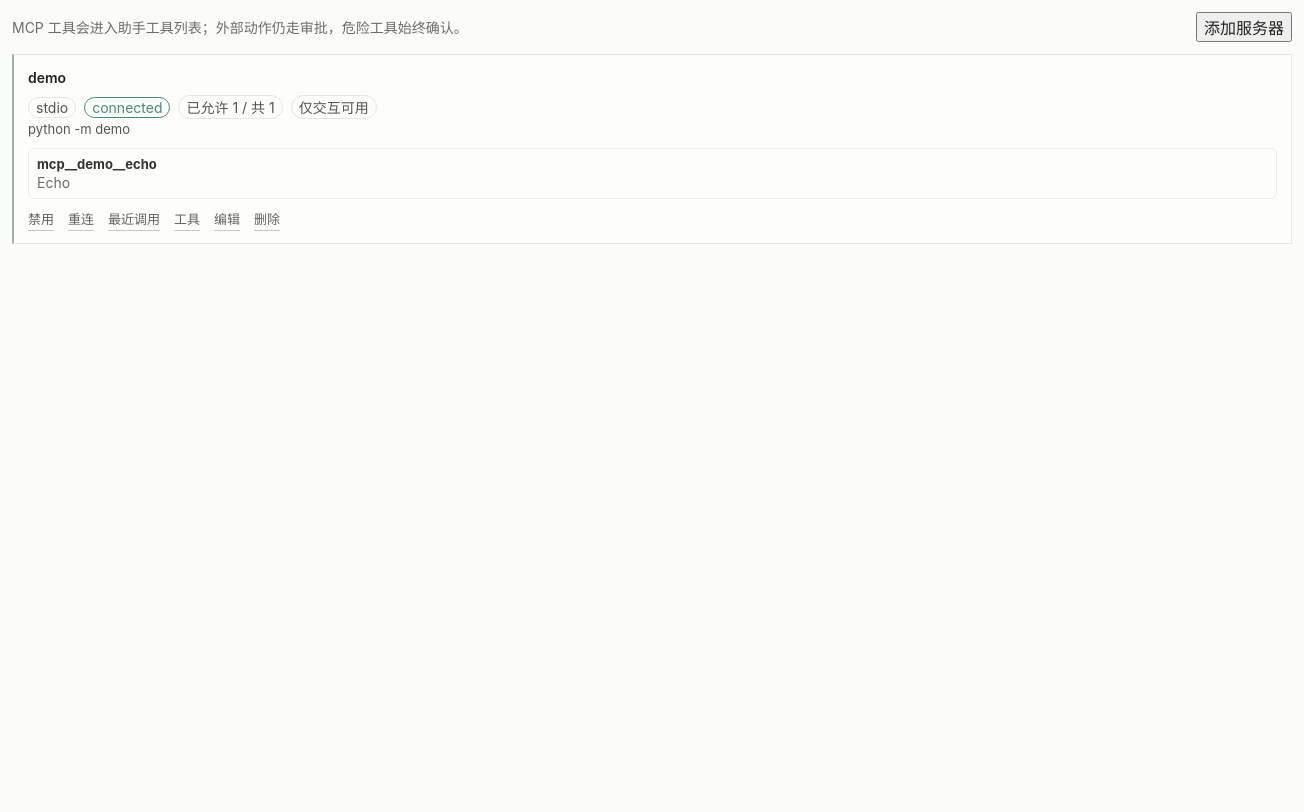
F1 编辑已有服务器：请求体（只发脏字段） › 没有任何改动时保存：零请求，只给一句提示
Click the button "编辑" at (227, 219), box [214,207,240,231]
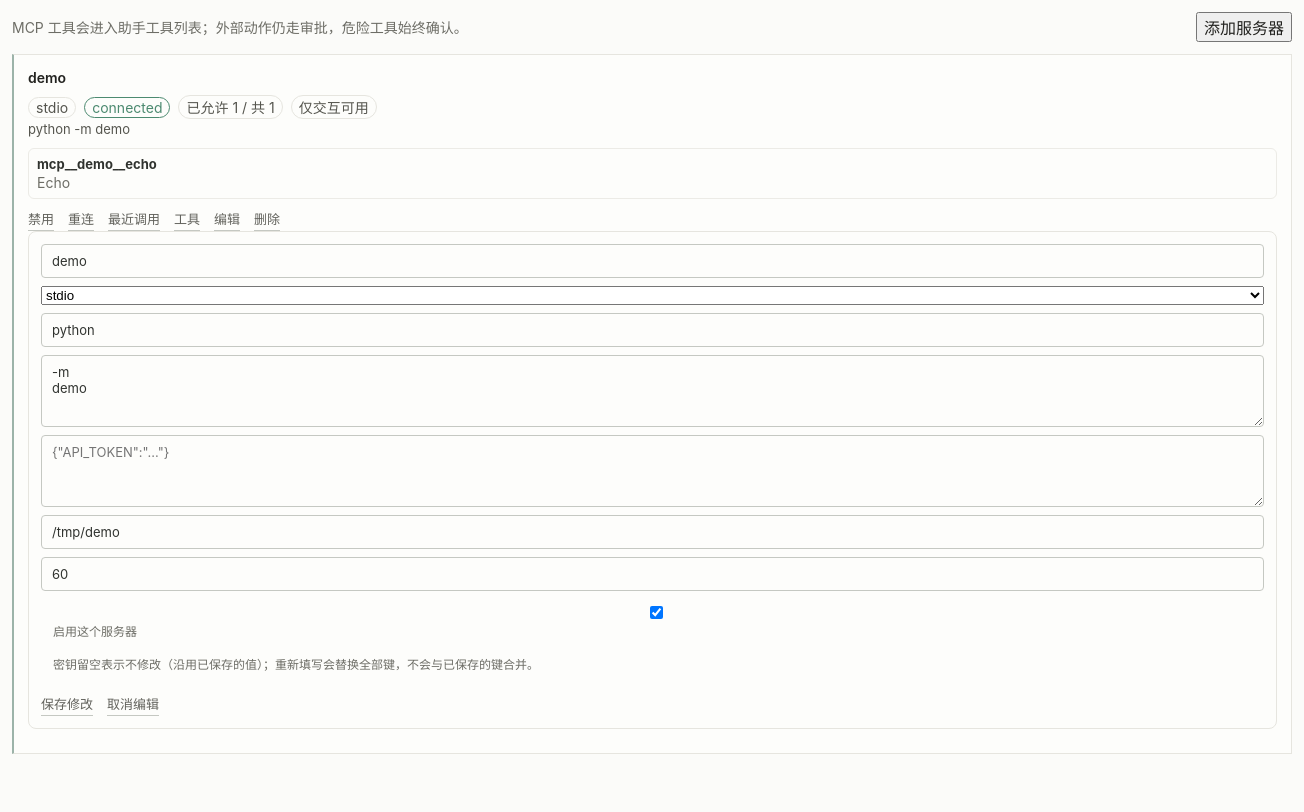
Click the button "保存修改" at (67, 704), box [41,692,93,716]
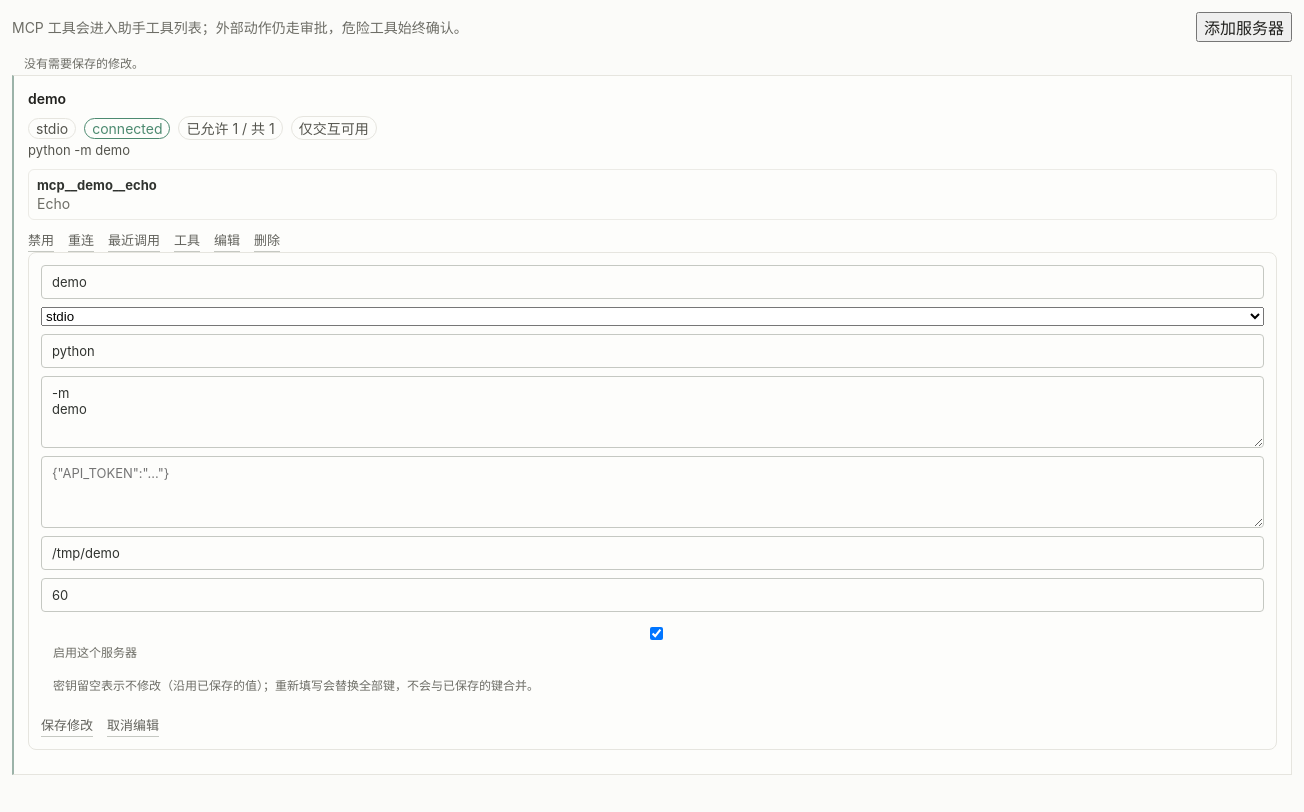
Expected: the text "没有需要保存的修改。" is shown, [24,56,144,71]
